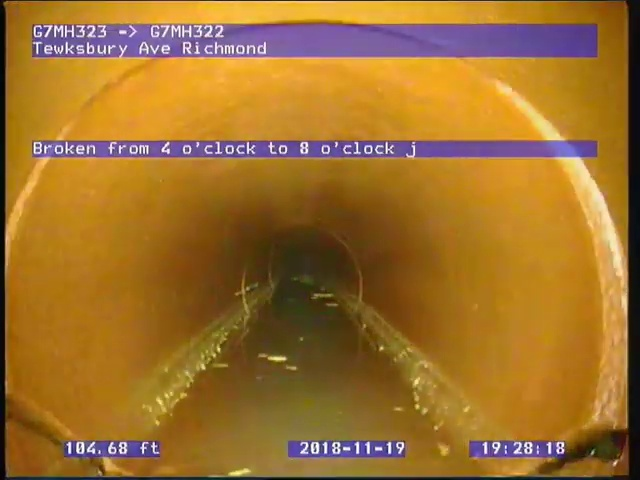crack: (4, 391, 129, 477), (522, 424, 628, 476)
